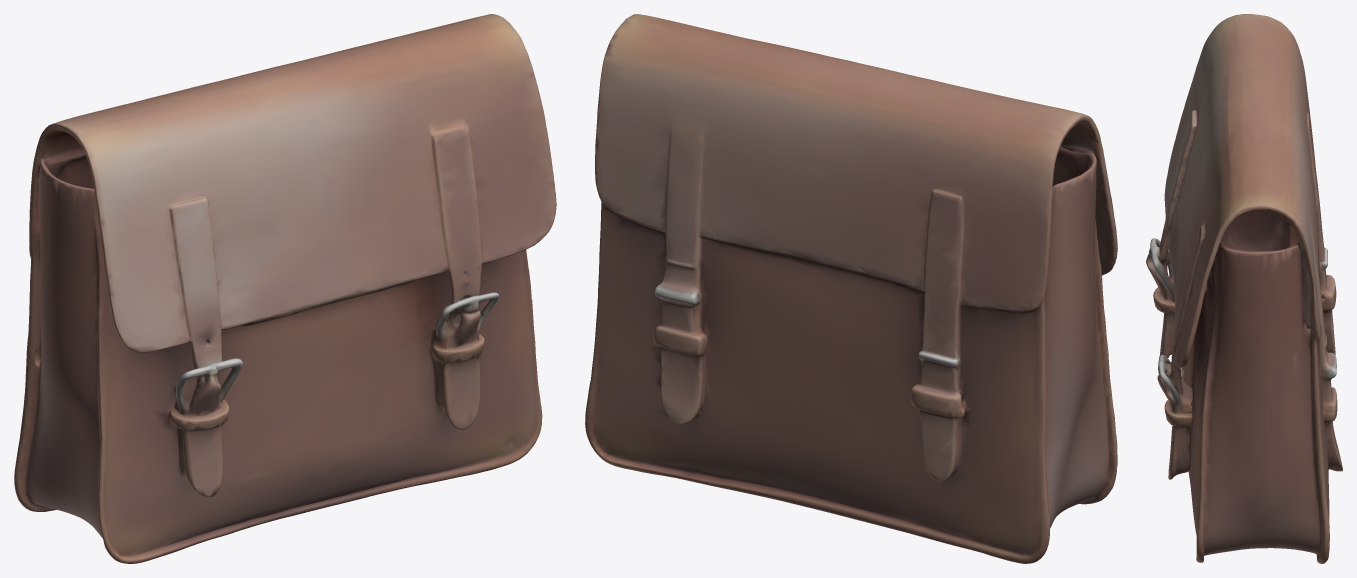
The model's file is r3d_pic_sam3d.glb.
3 renders of one model, left to right at view 1: azimuth 30°, elevation 25°; view 2: azimuth 150°, elevation 25°; view 3: azimuth 270°, elevation 25°, orthographic. The views are drawn at different scales.
Parts seen in each view (by area): view 1: satchel; view 2: satchel; view 3: satchel.
Part boxes in pixels (box(x1,y1,x2,y2)): satchel: box(14, 14, 556, 563); satchel: box(585, 14, 1117, 563); satchel: box(1146, 14, 1342, 563).
Size of what is drawn, in the model's own units: 0.4 by 0.3413 by 0.1646.
